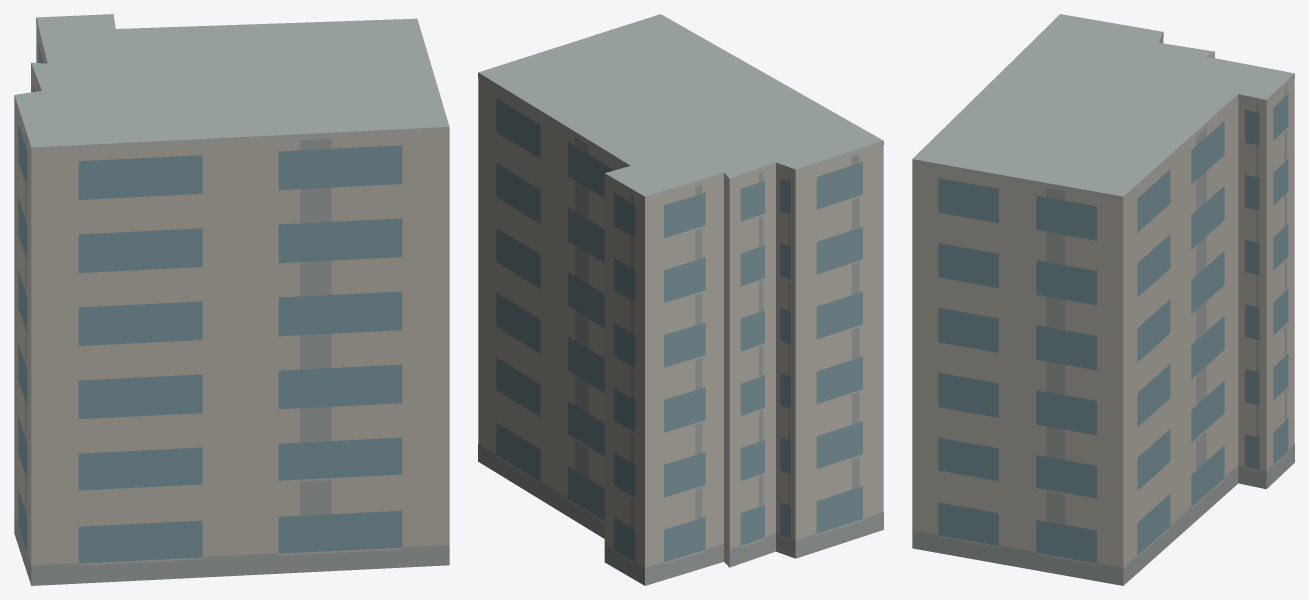
The model's file is survey-upis-32561680.glb.
3 views of the same model, side by side, from view 1: azimuth 30°, elevation 25°; view 2: azimuth 150°, elevation 25°; view 3: azimuth 270°, elevation 25° (orthographic). The views are drawn at different scales.
Visible parts, largest first — view 1: survey-upis-32561680.tmp; view 2: survey-upis-32561680.tmp; view 3: survey-upis-32561680.tmp.
Part boxes in pixels (box(x1,y1,x2,y2)): survey-upis-32561680.tmp: box(14, 14, 449, 585); survey-upis-32561680.tmp: box(478, 14, 883, 585); survey-upis-32561680.tmp: box(912, 14, 1294, 585).
Bounding box in the file's own units: 18.42 × 18.3 × 16.3.
